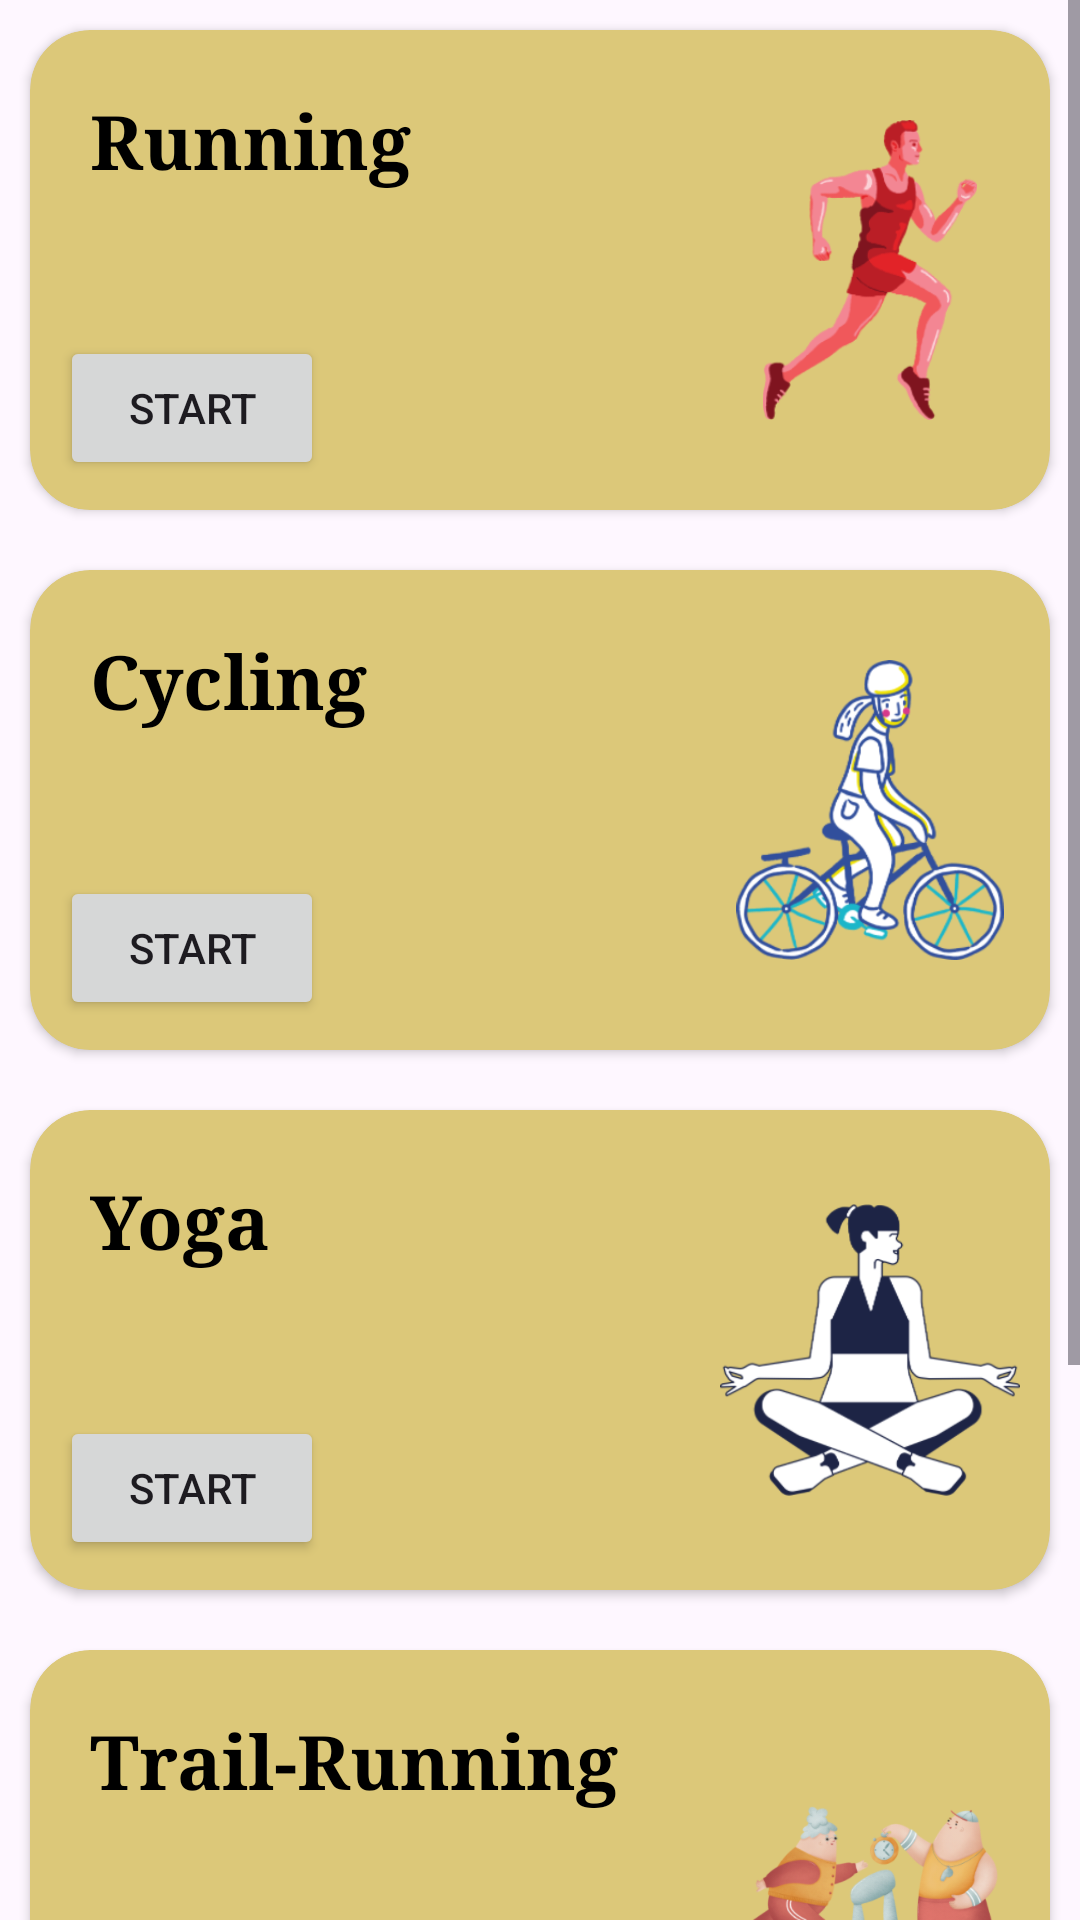

Where icons sit on this 1080×1920 app screen, as bbox=[x1, y1, x2, y2]:
cycling: bbox=[736, 660, 1004, 960]
running: bbox=[763, 120, 977, 420]
yogapng: bbox=[720, 1204, 1020, 1496]
